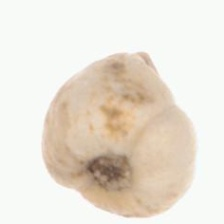L3: (128, 49, 158, 74)
L4: (41, 51, 196, 217)
